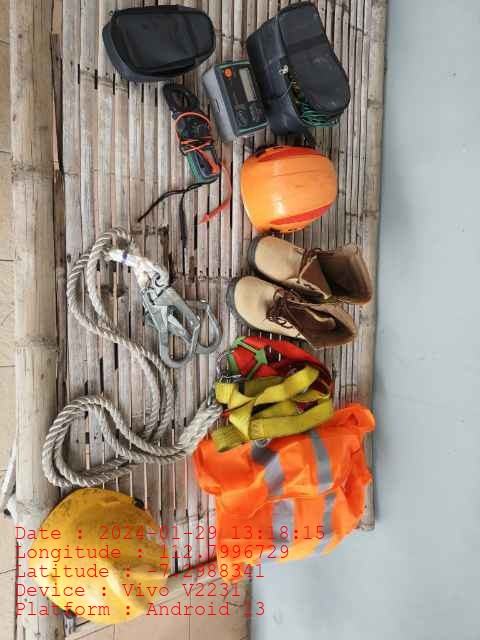HELM: (239, 144, 339, 233)
SEPATU: (228, 233, 371, 350)
TAMBANG_SLING: (41, 225, 221, 489)
